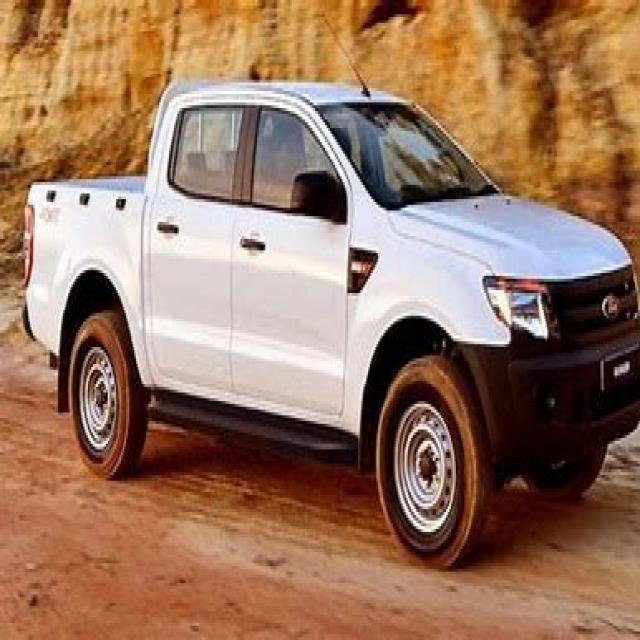light_vehicle: (10, 43, 638, 580)
